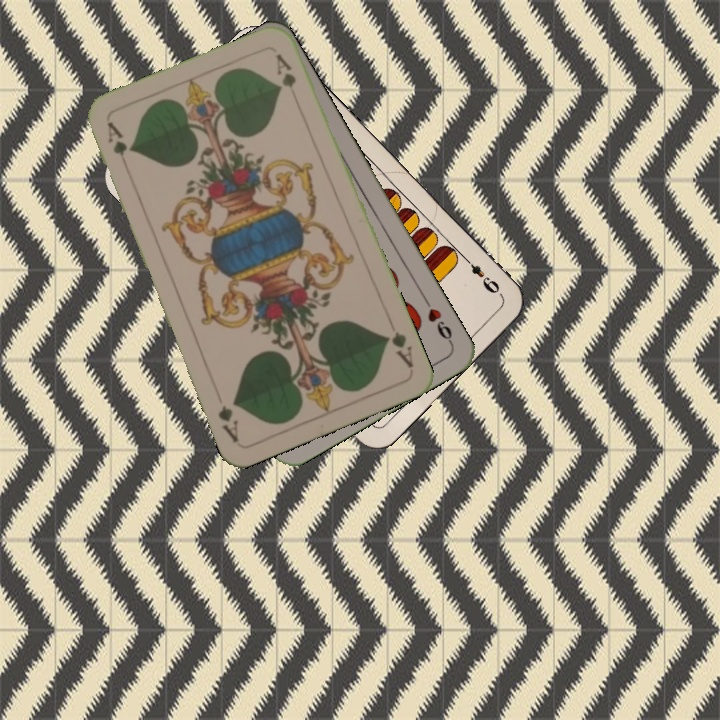E9: (459, 252, 505, 299)
GA: (380, 316, 416, 371), (103, 117, 132, 174)
H9: (420, 293, 456, 347)
